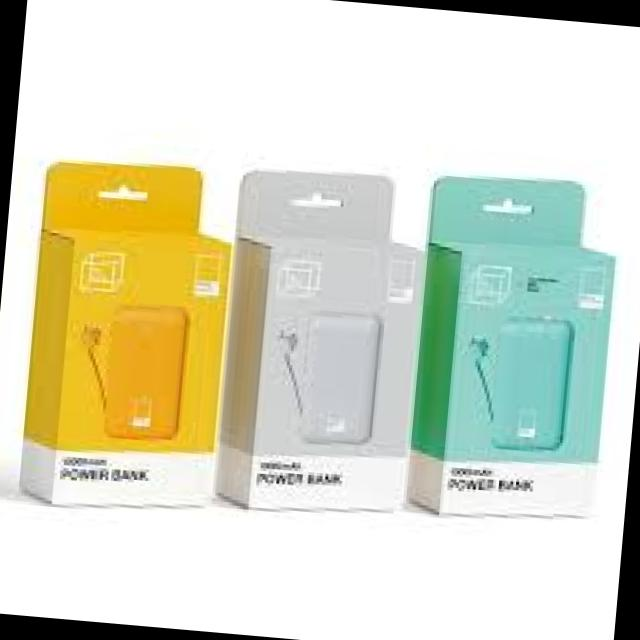portable-charger: (96, 300, 194, 446), (486, 314, 578, 456), (294, 310, 388, 447)
